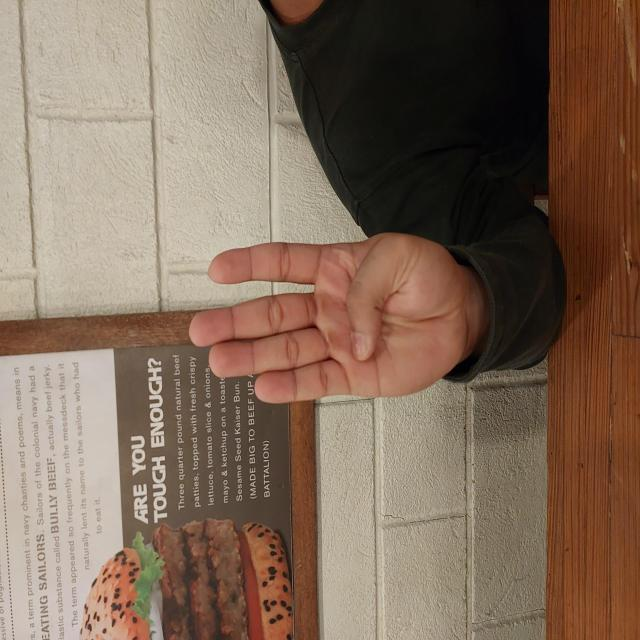B: (234, 187, 410, 467)
